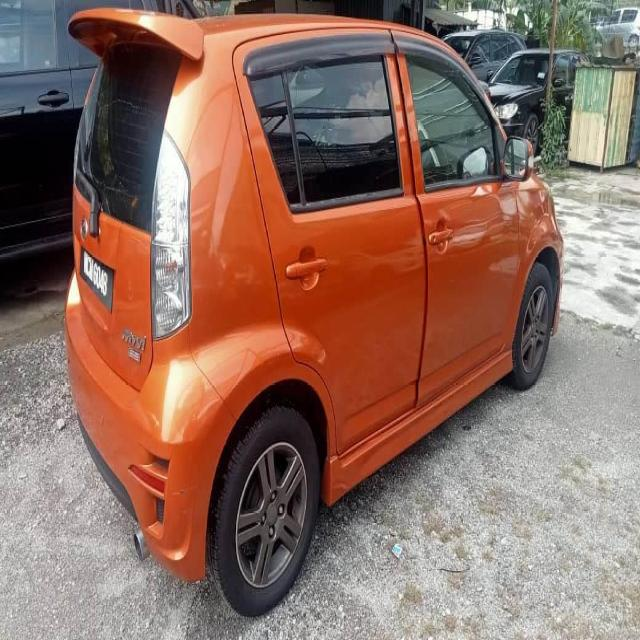PeroduaMyvi: (62, 6, 565, 618)
